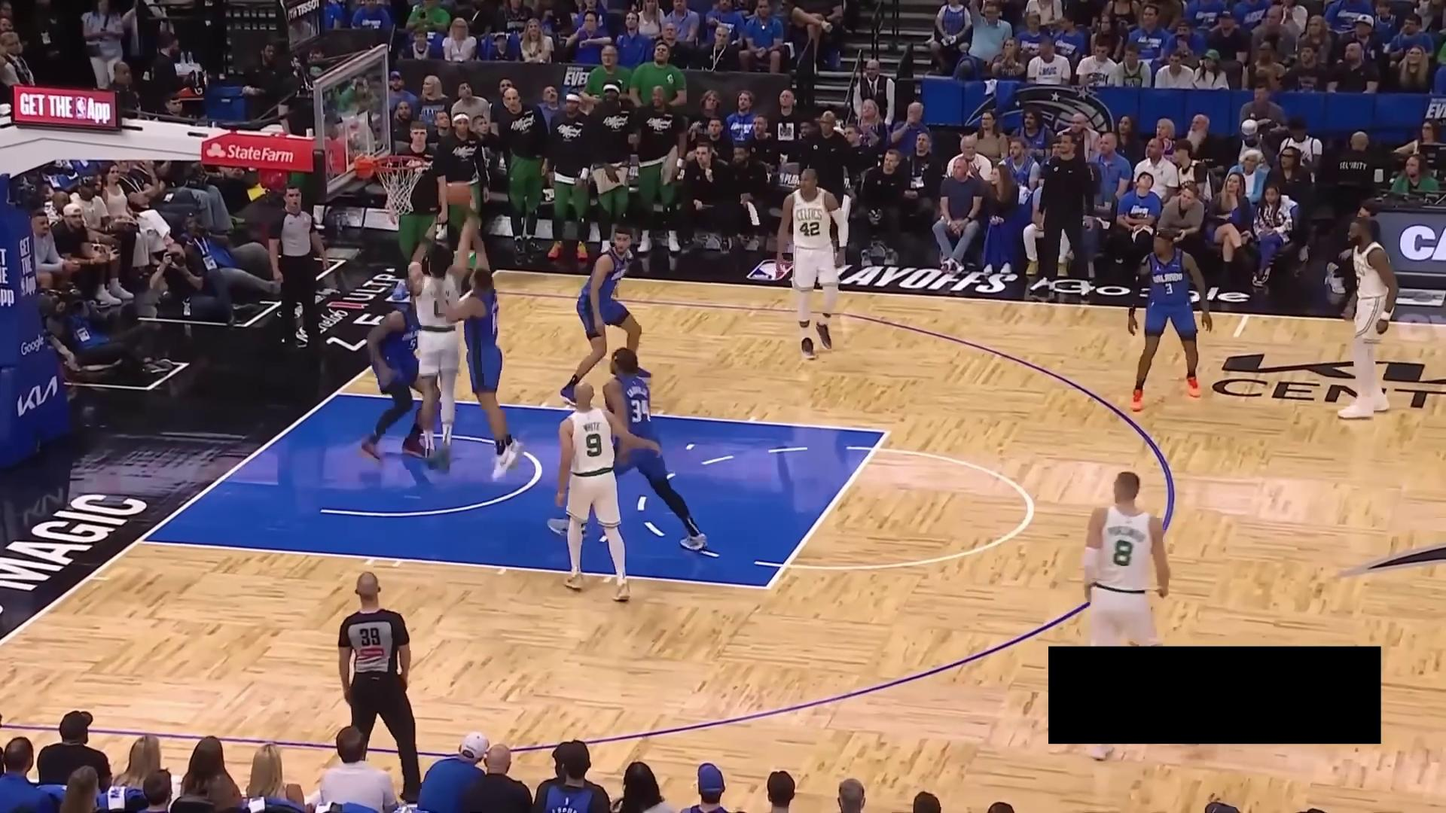ball: (445, 180, 471, 206)
number: (1111, 537, 1134, 567), (631, 398, 650, 425), (585, 433, 603, 459), (433, 297, 450, 319), (799, 221, 821, 237), (1165, 283, 1173, 296)
player: (538, 342, 708, 558), (1066, 471, 1171, 765), (553, 374, 665, 608), (554, 220, 650, 412), (1123, 225, 1220, 412), (776, 161, 854, 363), (1333, 211, 1404, 427), (356, 295, 438, 463)
player-layup-dunk: (399, 194, 479, 478)
player-shot-block: (434, 210, 532, 486)
referee: (334, 567, 428, 810), (262, 177, 331, 352)
rim: (371, 151, 430, 176)
